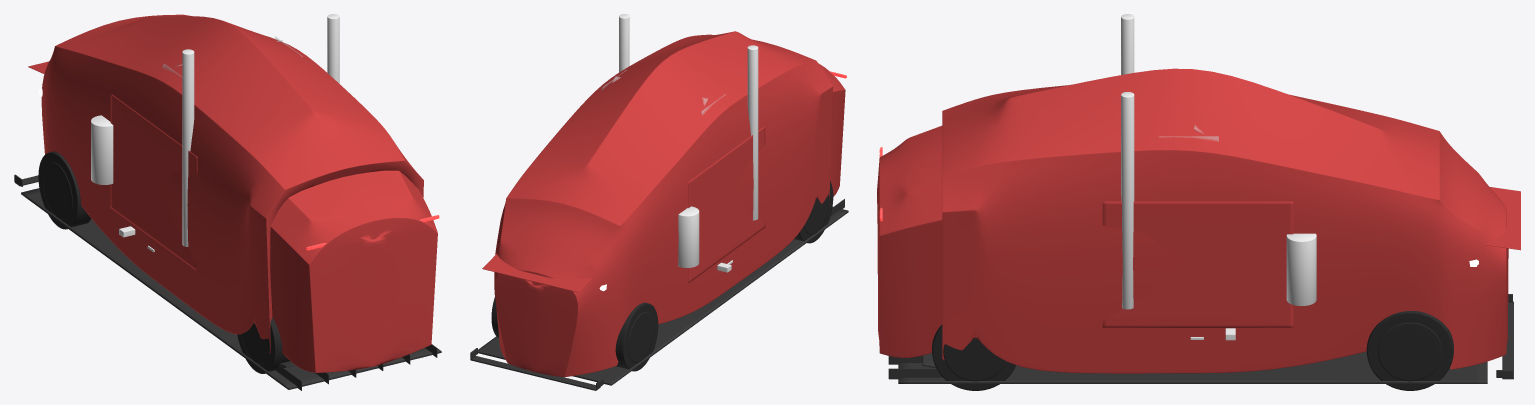
Rendered from vehicle.glb.
3 views of the same model, side by side, from view 1: azimuth 30°, elevation 25°; view 2: azimuth 150°, elevation 25°; view 3: azimuth 270°, elevation 25° (orthographic). The views are drawn at different scales.
Visible parts, largest first — view 1: BODY_MainShell, BODY_Door_FL, UNDERBODY_FlatFloor, JEWELRY_Pete_Stacks, WHEEL_FL_Tire, WHEEL_RL_Tire, JEWELRY_Pete_AirCanisters; view 2: BODY_MainShell, BODY_Door_FL, UNDERBODY_FlatFloor, JEWELRY_Pete_Stacks, WHEEL_FL_Tire, JEWELRY_Pete_AirCanisters, BODY_Hood, WHEEL_RL_Tire, AERO_FrontSplitter; view 3: BODY_MainShell, BODY_Door_FR, UNDERBODY_FlatFloor, WHEEL_FR_Tire, JEWELRY_Pete_Stacks, WHEEL_RR_Tire, JEWELRY_Pete_AirCanisters, BODY_Hood, AERO_FrontSplitter.
Boxes of the visible parts, <box> form: BODY_MainShell: <box>41,14,437,372</box>; BODY_Door_FL: <box>110,94,197,270</box>; UNDERBODY_FlatFloor: <box>21,188,441,390</box>; JEWELRY_Pete_Stacks: <box>182,14,339,246</box>; WHEEL_FL_Tire: <box>38,151,91,229</box>; WHEEL_RL_Tire: <box>237,317,289,373</box>; JEWELRY_Pete_AirCanisters: <box>91,115,113,184</box>; BODY_MainShell: <box>494,31,845,377</box>; BODY_Door_FL: <box>688,126,765,283</box>; UNDERBODY_FlatFloor: <box>478,199,848,385</box>; JEWELRY_Pete_Stacks: <box>619,14,758,220</box>; WHEEL_FL_Tire: <box>615,302,658,371</box>; JEWELRY_Pete_AirCanisters: <box>678,206,699,267</box>; BODY_Hood: <box>482,254,593,292</box>; WHEEL_RL_Tire: <box>794,181,833,243</box>; AERO_FrontSplitter: <box>470,348,603,390</box>; BODY_MainShell: <box>877,68,1508,373</box>; BODY_Door_FR: <box>1102,201,1293,327</box>; UNDERBODY_FlatFloor: <box>888,351,1487,383</box>; WHEEL_FR_Tire: <box>1366,311,1453,390</box>; JEWELRY_Pete_Stacks: <box>1121,14,1134,309</box>; WHEEL_RR_Tire: <box>932,324,1016,390</box>; JEWELRY_Pete_AirCanisters: <box>1286,233,1316,306</box>; BODY_Hood: <box>1484,187,1520,250</box>; AERO_FrontSplitter: <box>1496,294,1513,379</box>.
Size of what is drawn, in the model's own units: 2.83 by 3.9 by 7.7.
